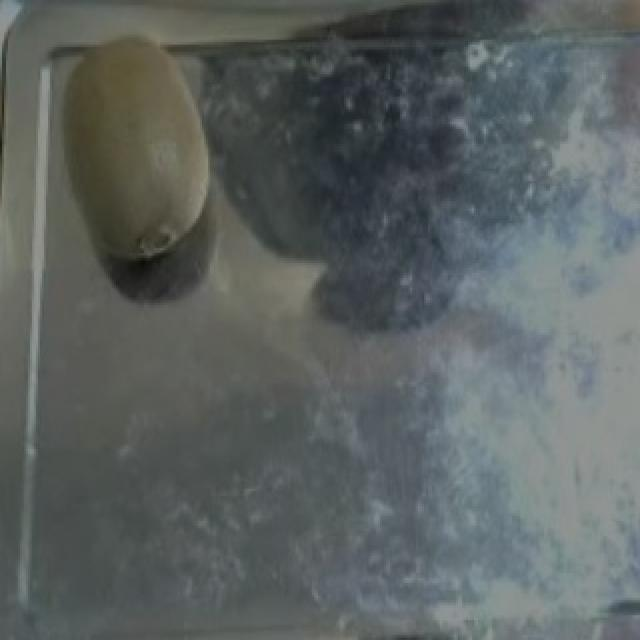Fruit: (4, 7, 234, 288)
